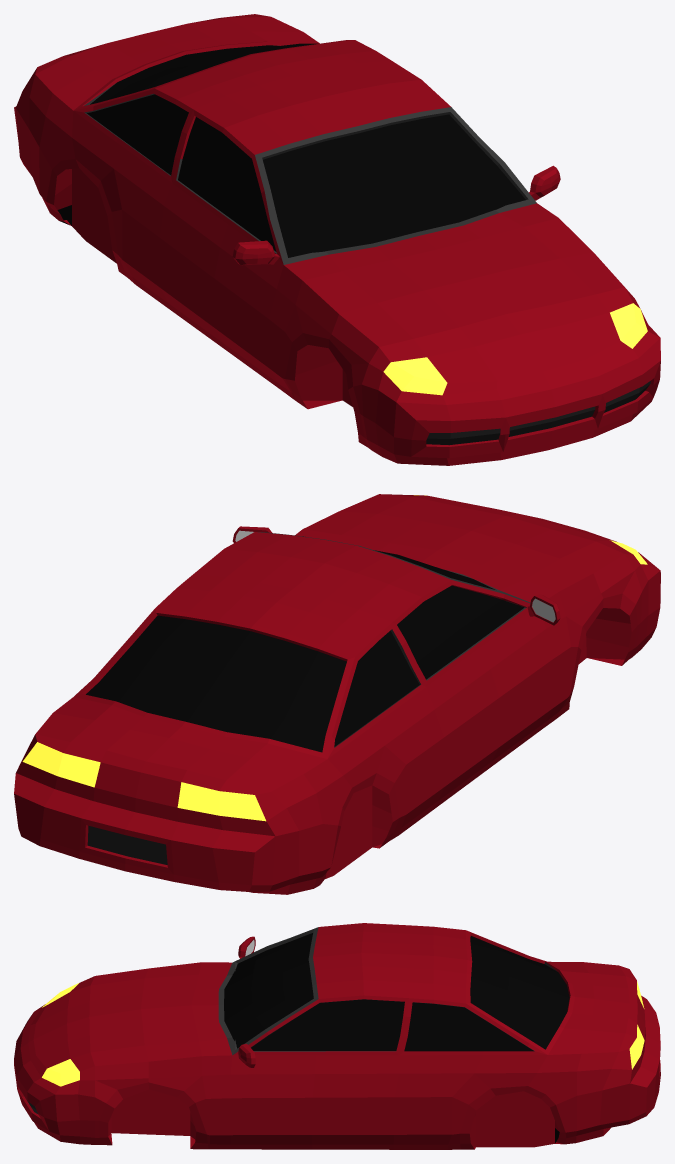
File: car200player.glb
The picture shows the model from 3 angles, top to bottom: view 1: azimuth 30°, elevation 25°; view 2: azimuth 150°, elevation 25°; view 3: azimuth 270°, elevation 25°; orthographic projection. The views are drawn at different scales.
Parts seen in each view (by area): view 1: car.003; view 2: car.003; view 3: car.003.
Part boxes in pixels (x1,y1,x2,y2): car.003: (14, 14, 660, 465); car.003: (14, 494, 660, 894); car.003: (14, 923, 660, 1149).
Bounding box in the file's own units: 1.97 × 1.15 × 4.52.
